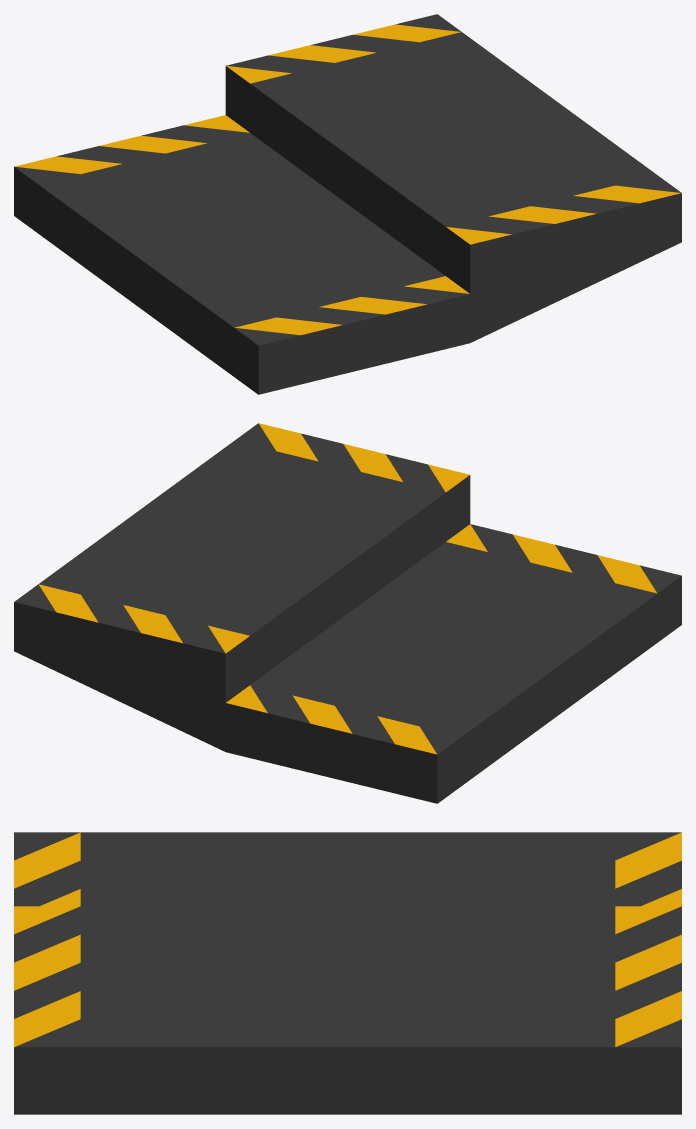
The picture shows the model from 3 angles, top to bottom: view 1: azimuth 30°, elevation 25°; view 2: azimuth 150°, elevation 25°; view 3: azimuth 270°, elevation 25°; orthographic projection. The views are drawn at different scales.
Visible parts, largest first — view 1: k1; view 2: k1; view 3: k1.
Part boxes in pixels (<box>): k1: <box>14,14,681,394</box>; k1: <box>14,423,681,803</box>; k1: <box>14,832,681,1114</box>.
Bounding box in the file's own units: 9 × 2 × 9.
